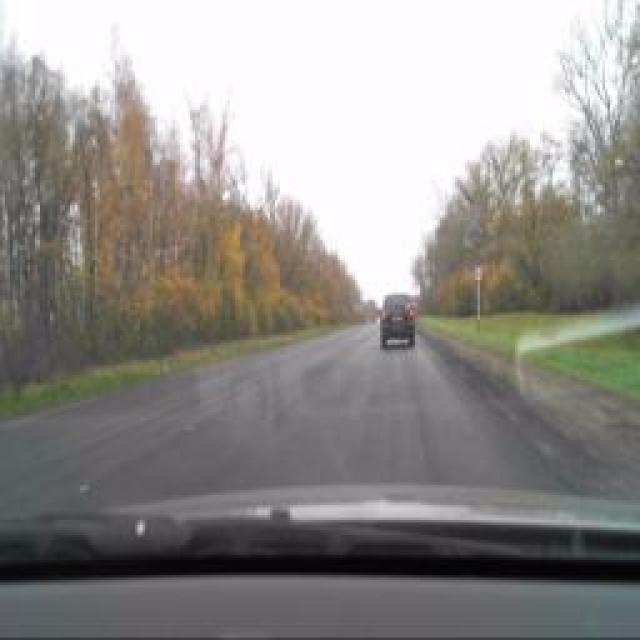sign: (474, 266, 484, 282)
